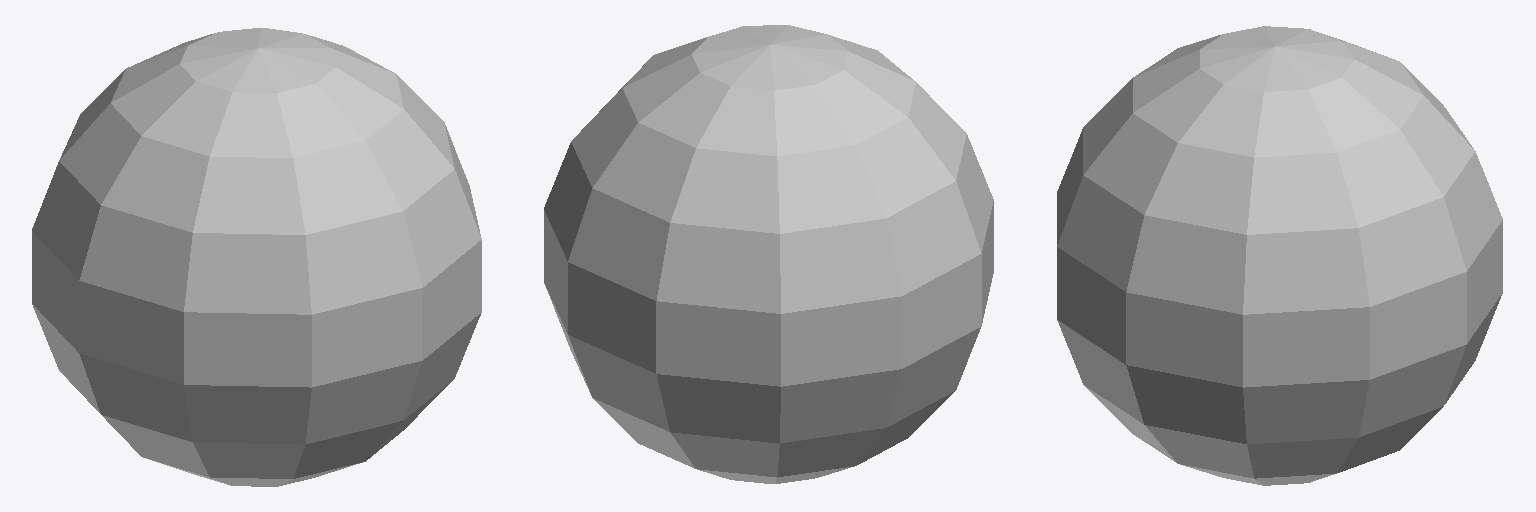
File: bola.obj
The picture shows the model from 3 angles: view 1: azimuth 30°, elevation 25°; view 2: azimuth 150°, elevation 25°; view 3: azimuth 270°, elevation 25°; orthographic projection.
Parts seen in each view (by area): view 1: Sphere; view 2: Sphere; view 3: Sphere.
Part boxes in pixels (bbox=[...]): Sphere: bbox=[32, 28, 481, 486]; Sphere: bbox=[544, 25, 993, 483]; Sphere: bbox=[1057, 26, 1502, 485].
Bounding box in the file's own units: 1.95 × 2 × 1.93.